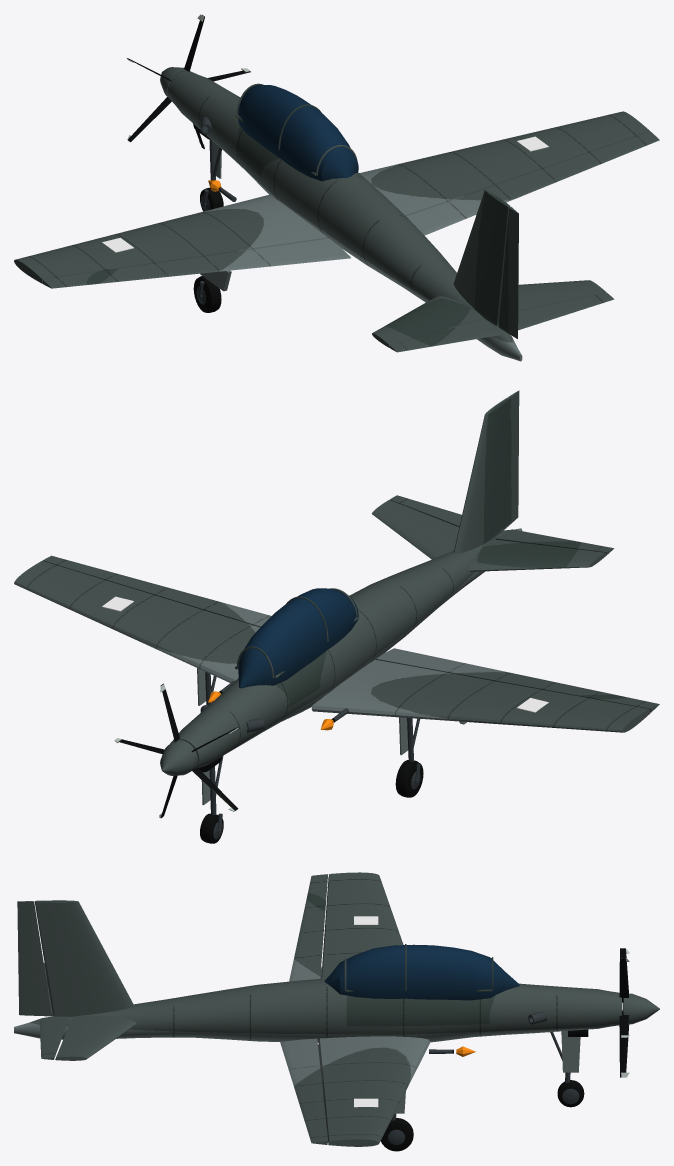
The model's file is cas.glb.
The picture shows the model from 3 angles, top to bottom: view 1: azimuth 30°, elevation 25°; view 2: azimuth 150°, elevation 25°; view 3: azimuth 270°, elevation 25°; orthographic projection. The views are drawn at different scales.
Parts seen in each view (by area): view 1: hull, aileron_L, aileron_R, rudder, elevator_L, propeller, elevator_R, gear_N, gear_L; view 2: hull, aileron_L, aileron_R, propeller, rudder, gear_L, gear_N, elevator_L, elevator_R; view 3: hull, aileron_R, rudder, aileron_L, propeller, gear_N, gear_R, elevator_R.
Part boxes in pixels (x1,y1,x2,y2): hull: (14, 71, 649, 361); aileron_L: (42, 238, 350, 288); aileron_R: (406, 131, 659, 235); rudder: (498, 207, 518, 338); elevator_L: (390, 319, 500, 352); propeller: (126, 14, 250, 149); elevator_R: (518, 292, 614, 330); gear_N: (200, 140, 223, 211); gear_L: (193, 276, 221, 312); hull: (14, 397, 650, 772); aileron_L: (375, 648, 659, 712); aileron_R: (42, 555, 271, 627); propeller: (114, 683, 238, 818); rudder: (502, 390, 519, 530); gear_L: (395, 717, 423, 797); gear_N: (200, 755, 223, 843); elevator_L: (495, 529, 613, 554); elevator_R: (390, 495, 461, 526); hull: (14, 872, 621, 1146); aileron_R: (280, 1038, 327, 1144); rudder: (17, 901, 51, 1016); aileron_L: (289, 874, 328, 981); propeller: (619, 948, 659, 1077); gear_N: (550, 1031, 584, 1107); gear_R: (381, 1091, 413, 1151); elevator_R: (39, 1017, 69, 1059).
Bounding box in the file's own units: 11.15 × 3.97 × 11.38.
1 material, 1 textured.
